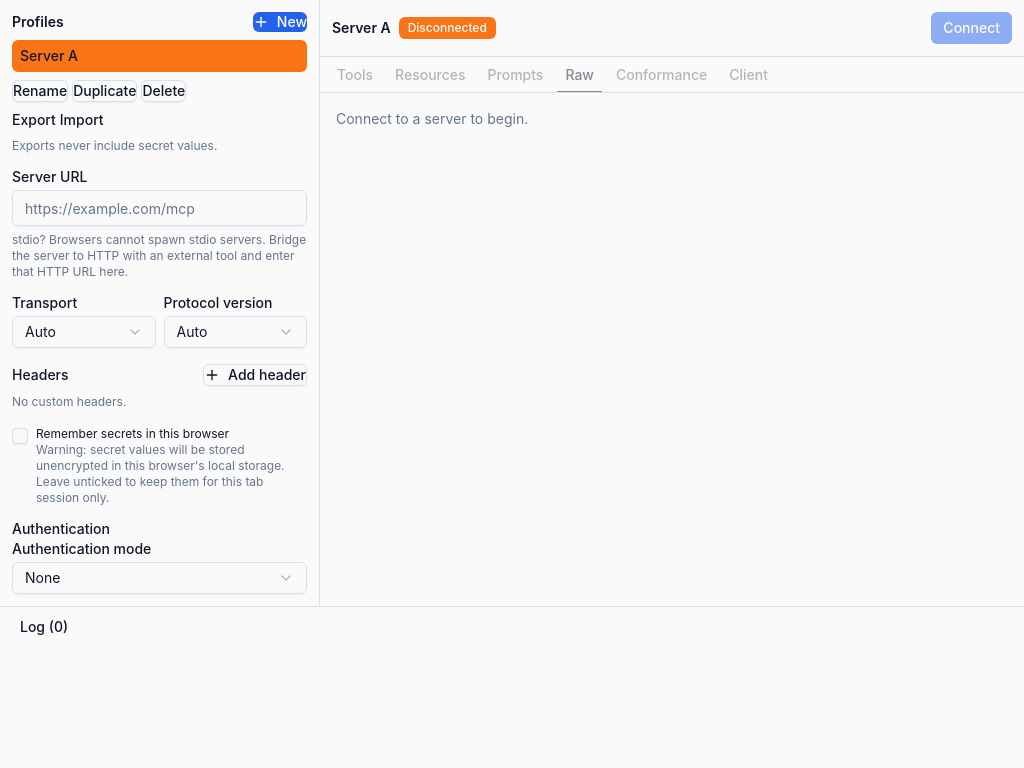
Test: a11y/input › keeps the URL field editable and persists edits to the profile
This screenshot has width=1024, height=768.
In the field labelled "Server URL": (160, 208) [12, 190, 307, 226], type "https://new.test/mcp"
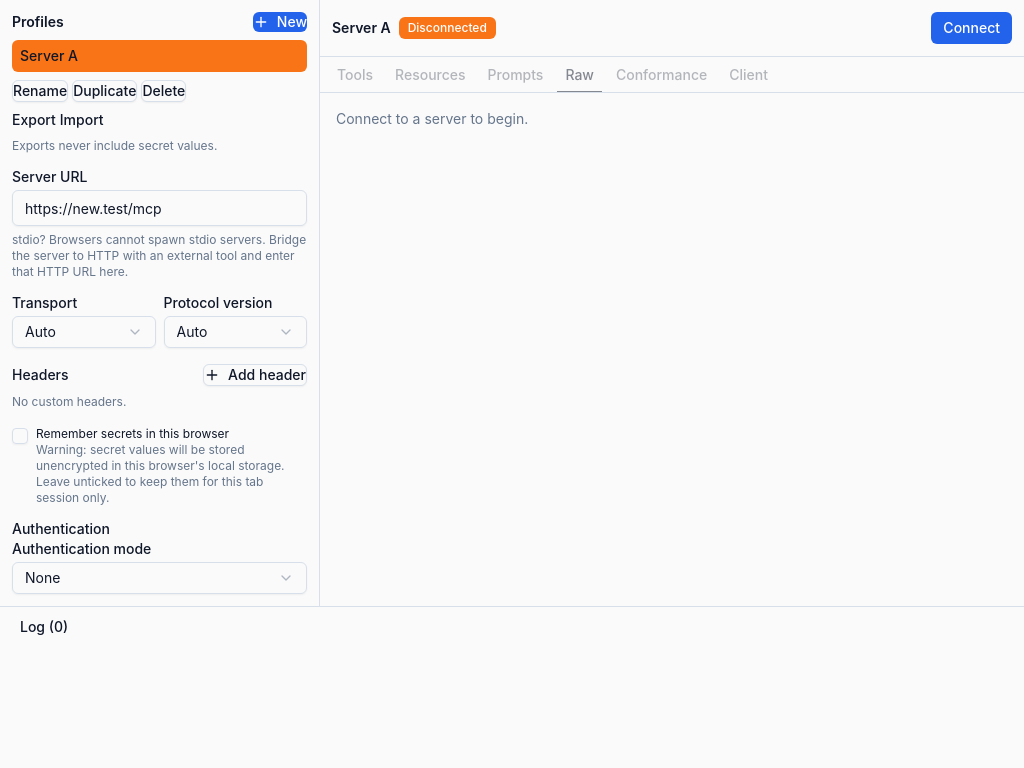
Check: the button "Connect" is enabled, box [931, 12, 1012, 44]
